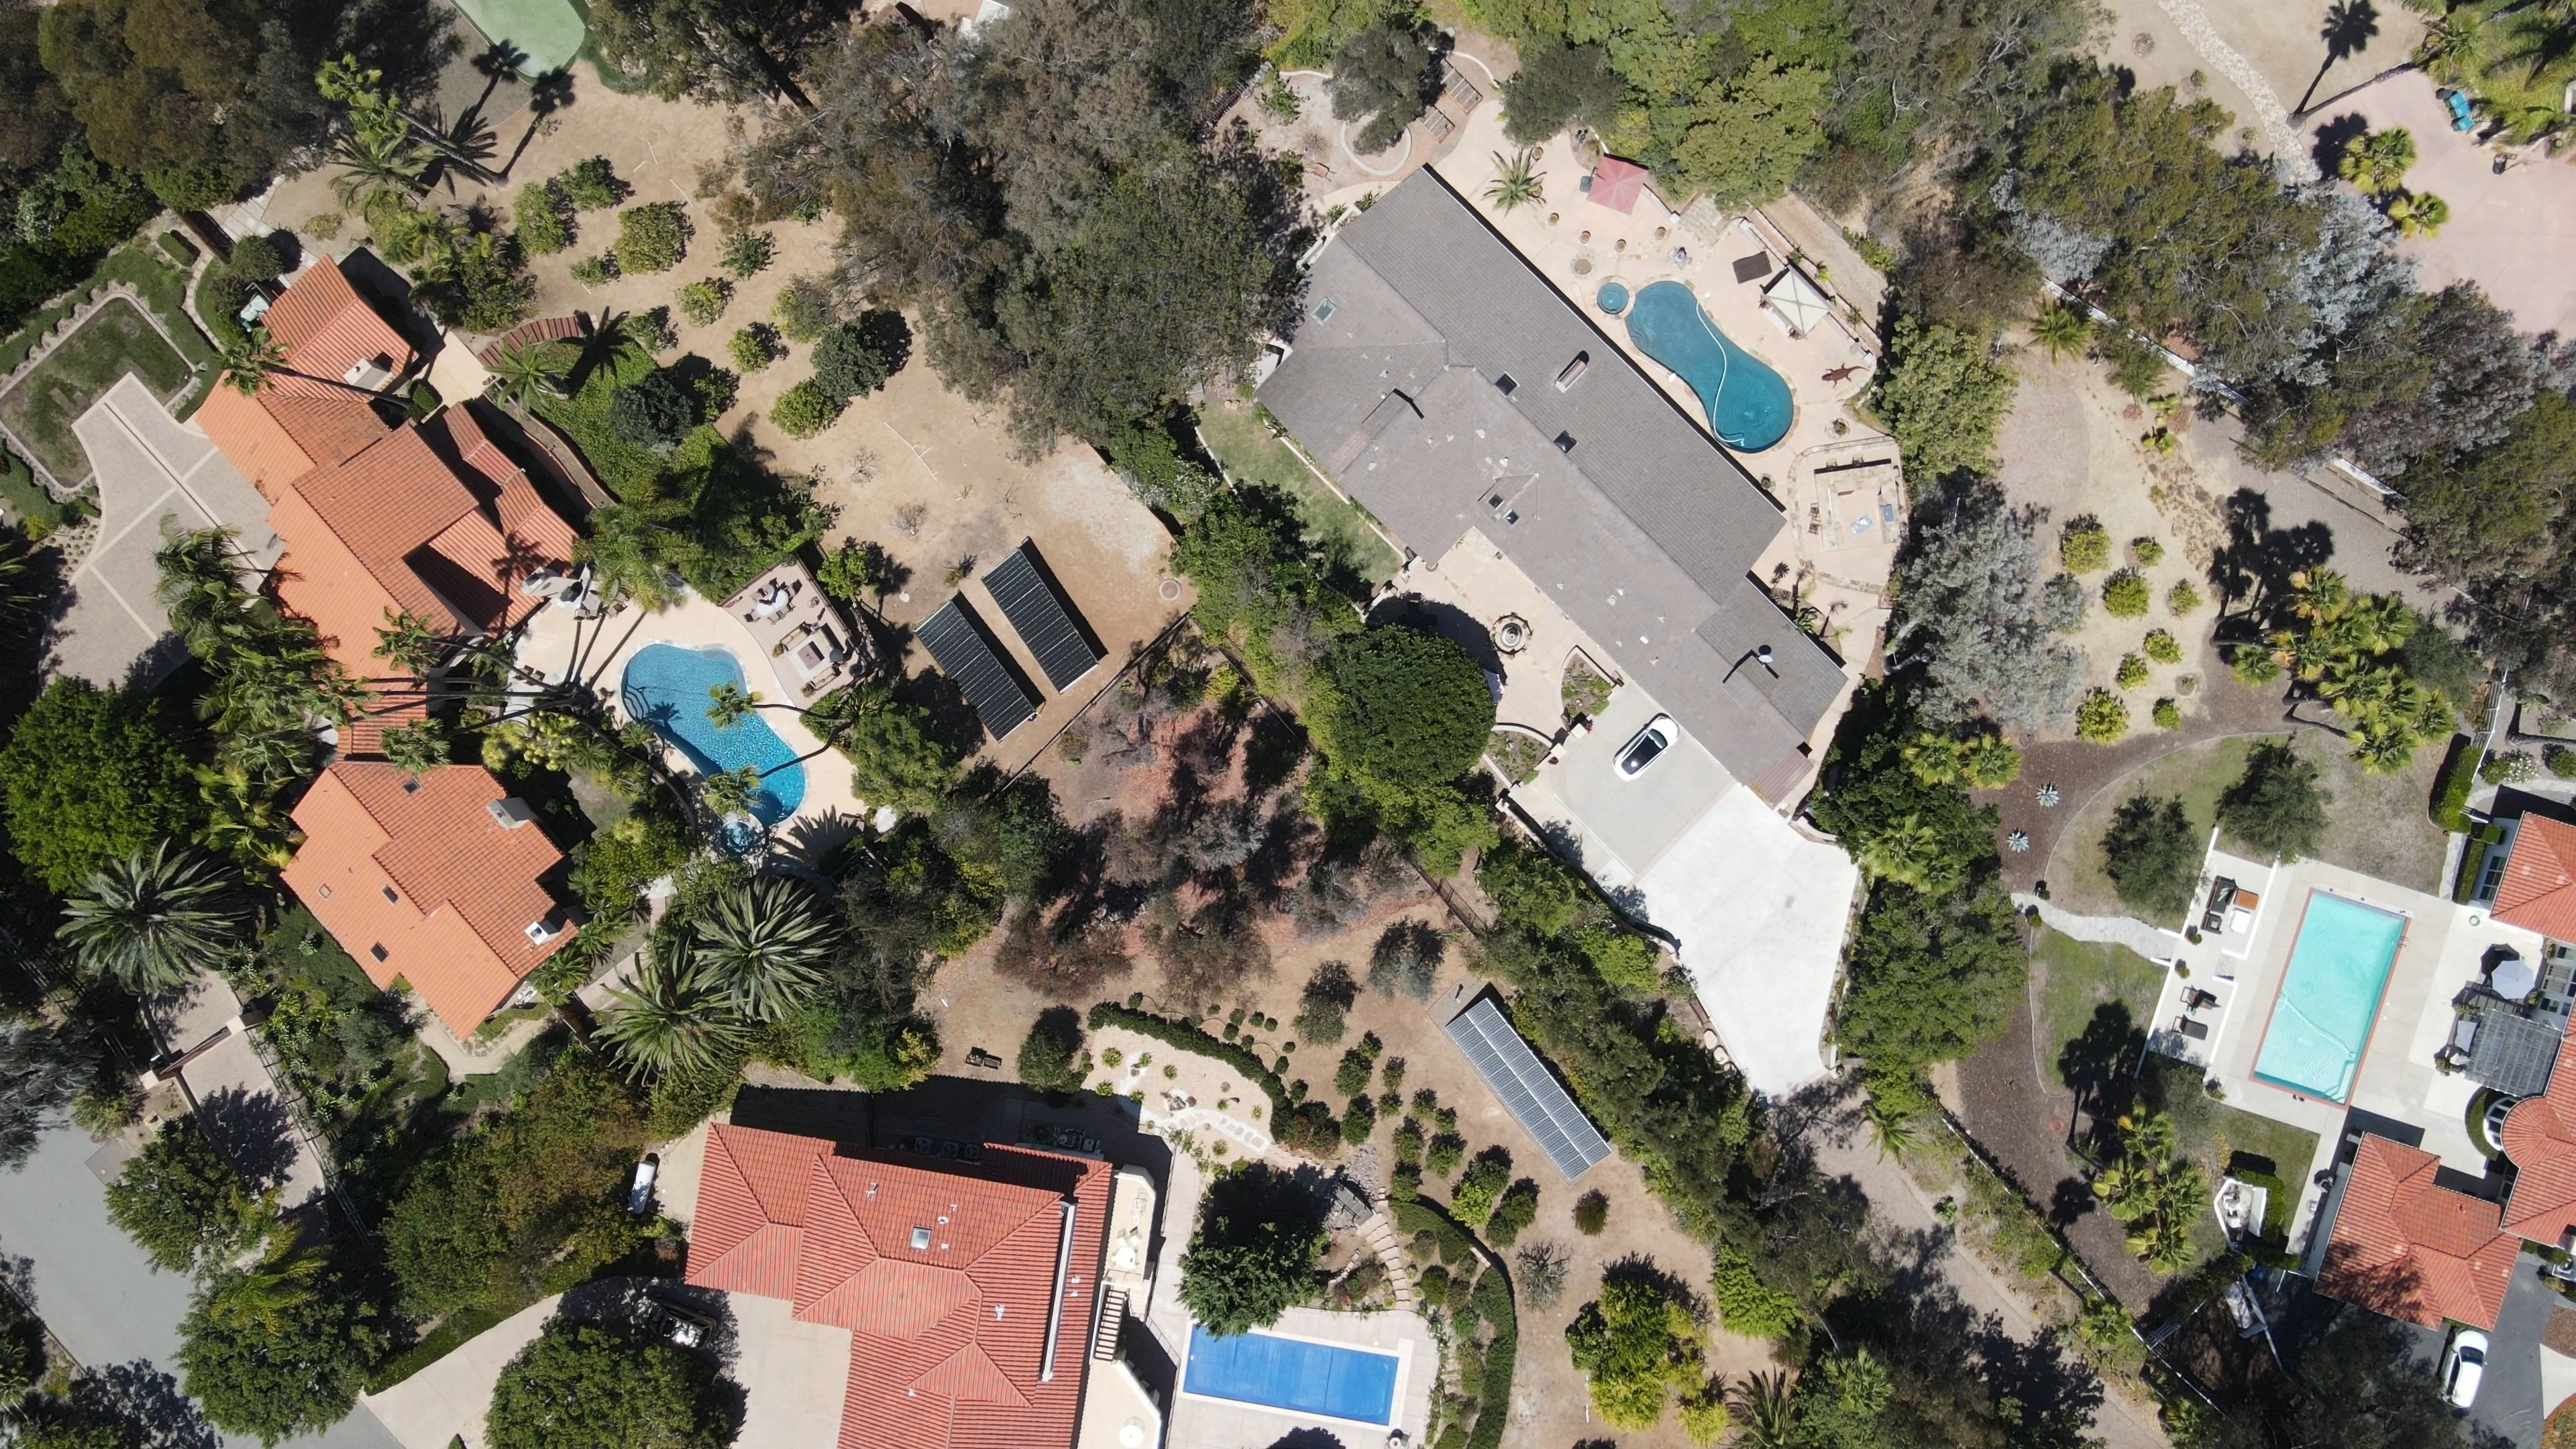panel: (980, 547, 1102, 696), (914, 599, 1038, 743)
